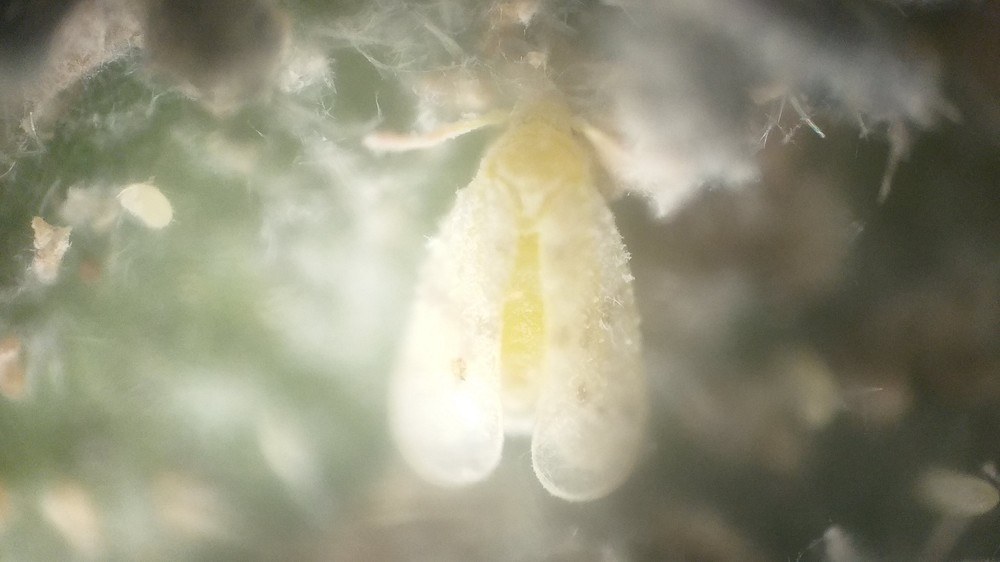Mosca Blanca: (351, 78, 689, 525)
